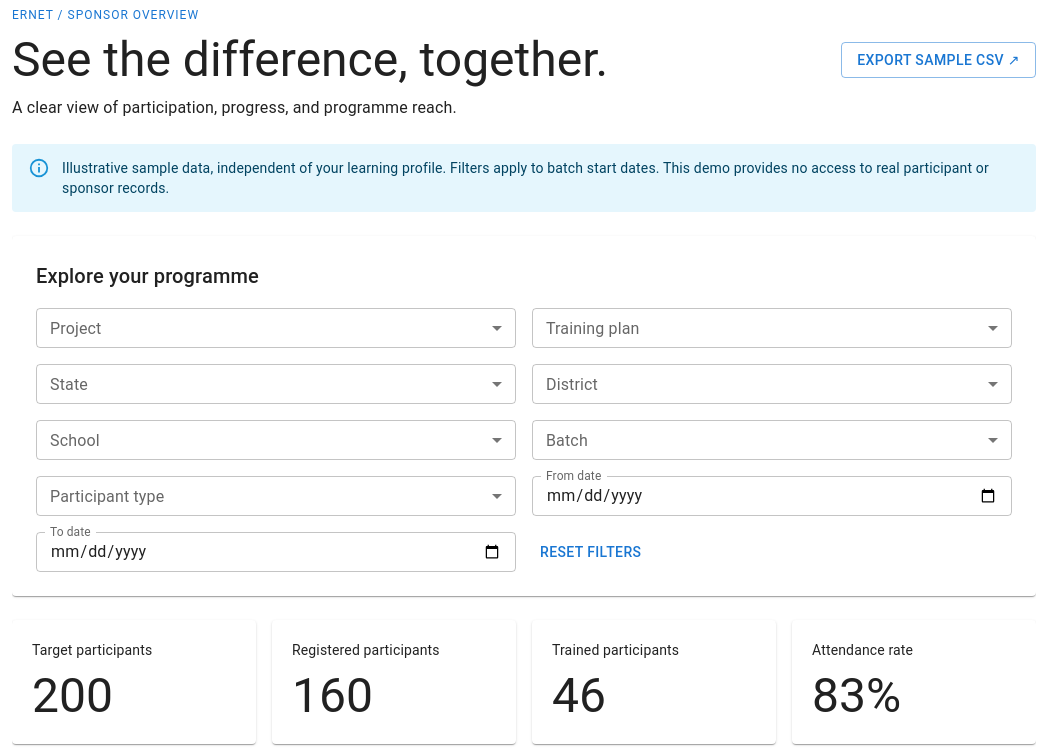
sample sponsor analytics › validates reversed dates and filters participant type with all outcomes recomputed
Click the dropdown named "Participant type" next to "Participant type": (276,496) [36,476,516,516]
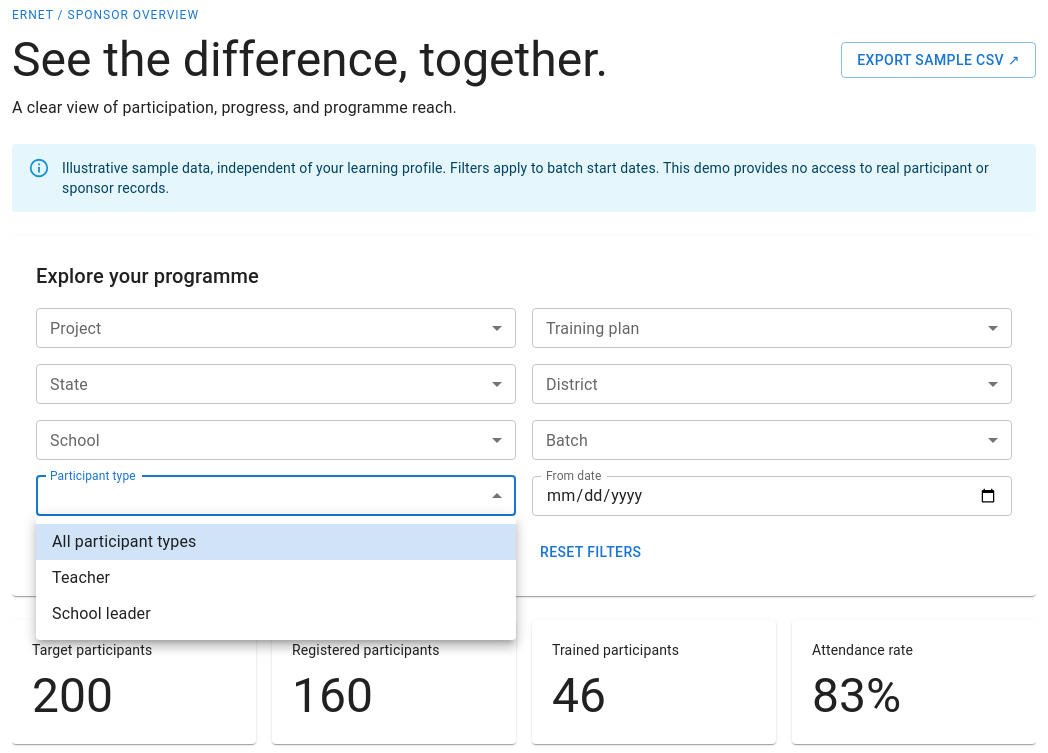
Click the option "School leader": (101,614) [52,604,151,623]
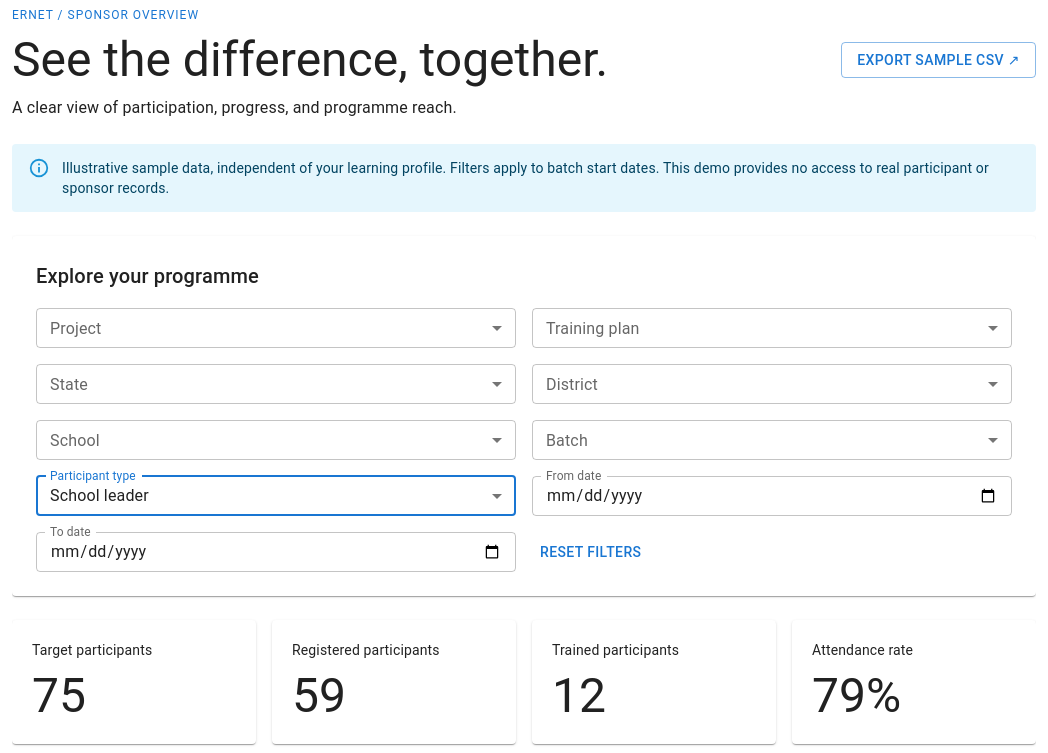
In the date field labelled "From date": (772,496) [532,476,1012,516], type "2026-10-26"
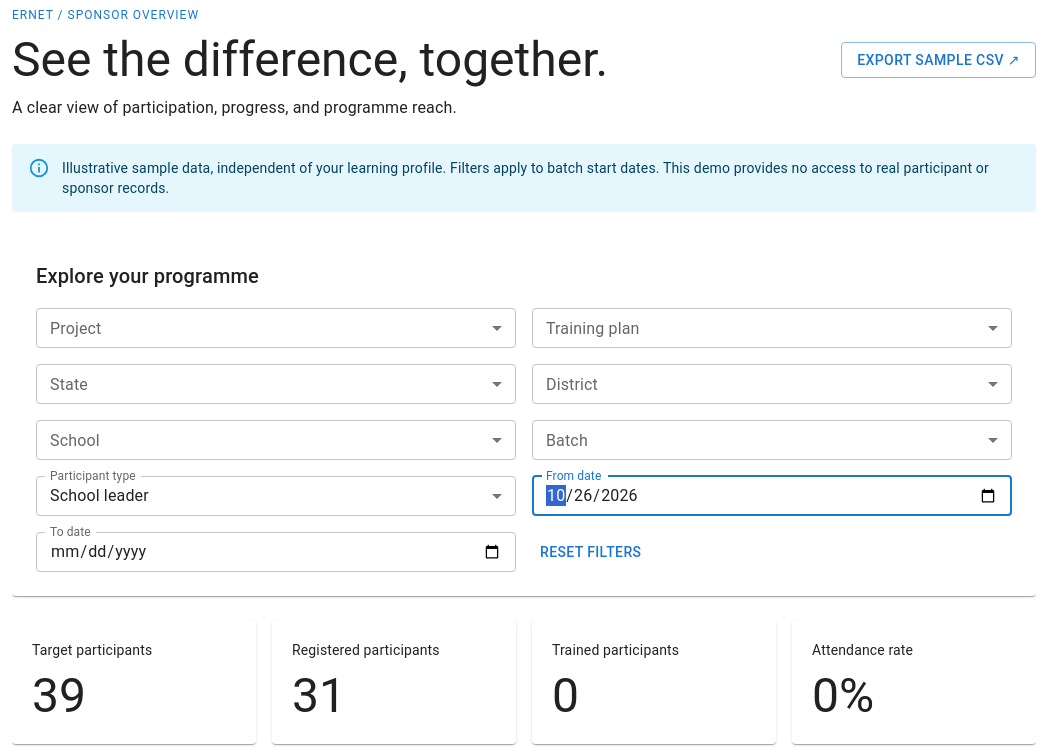
In the date field labelled "To date": (276,552) [36,532,516,572], type "2026-09-01"
(page scrolled)
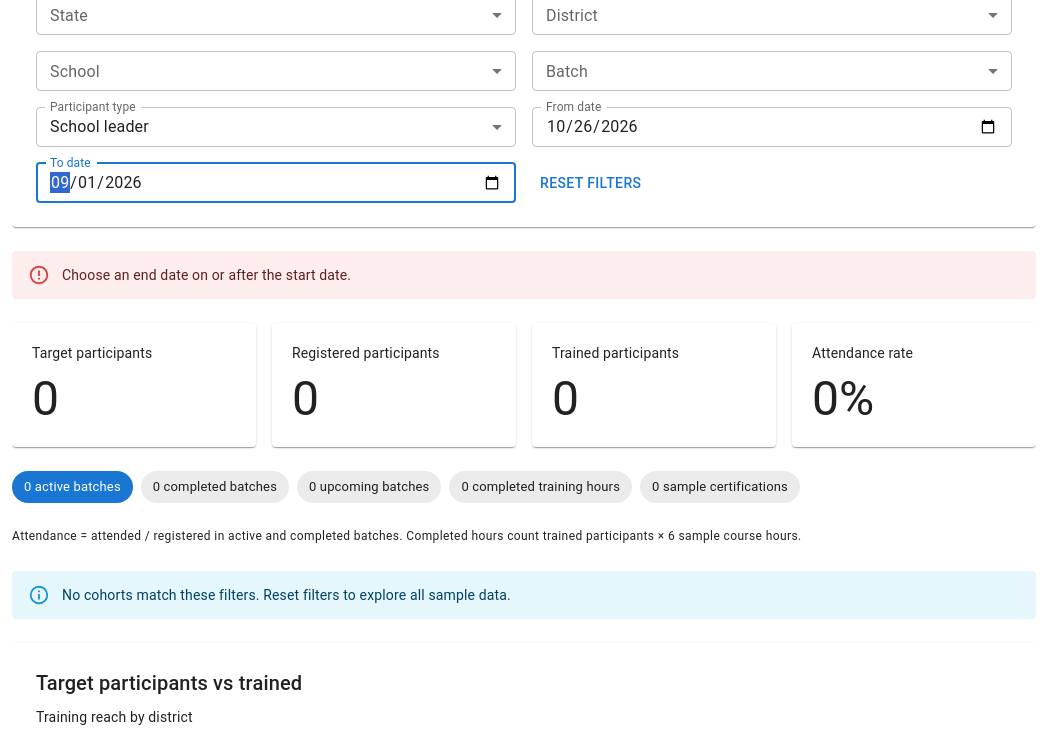
Result: the text "Choose an end date on or after the start date." is shown at [62,267,351,283]
